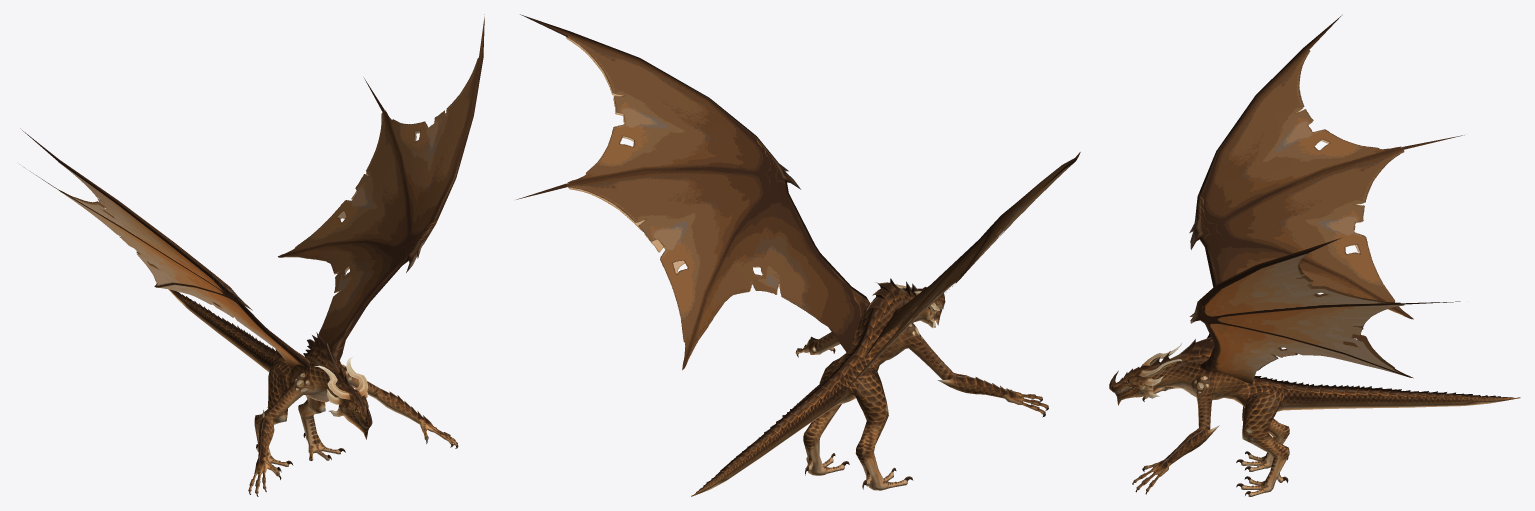
File: tower_dragon_416b4548.glb
3 renders of one model, left to right at view 1: azimuth 30°, elevation 25°; view 2: azimuth 150°, elevation 25°; view 3: azimuth 270°, elevation 25°, orthographic. The views are drawn at different scales.
Bounding box in the file's own units: 20.91 × 15.36 × 16.29.
1 material, 1 textured.
